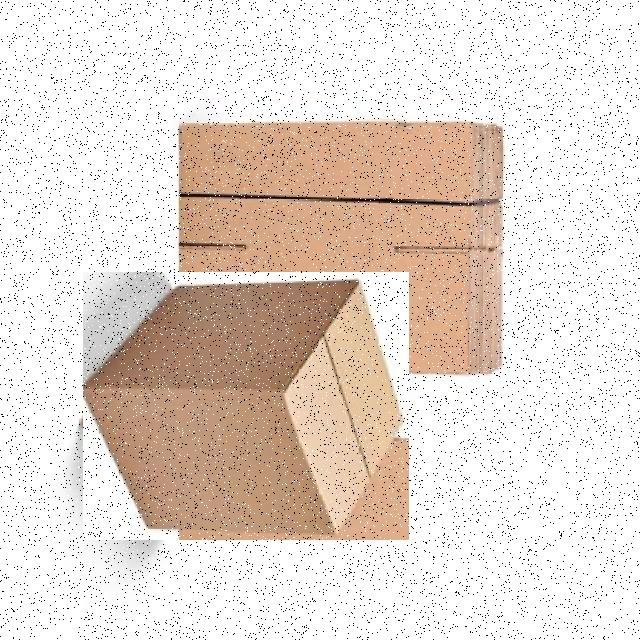normal: (83, 272, 409, 540)
